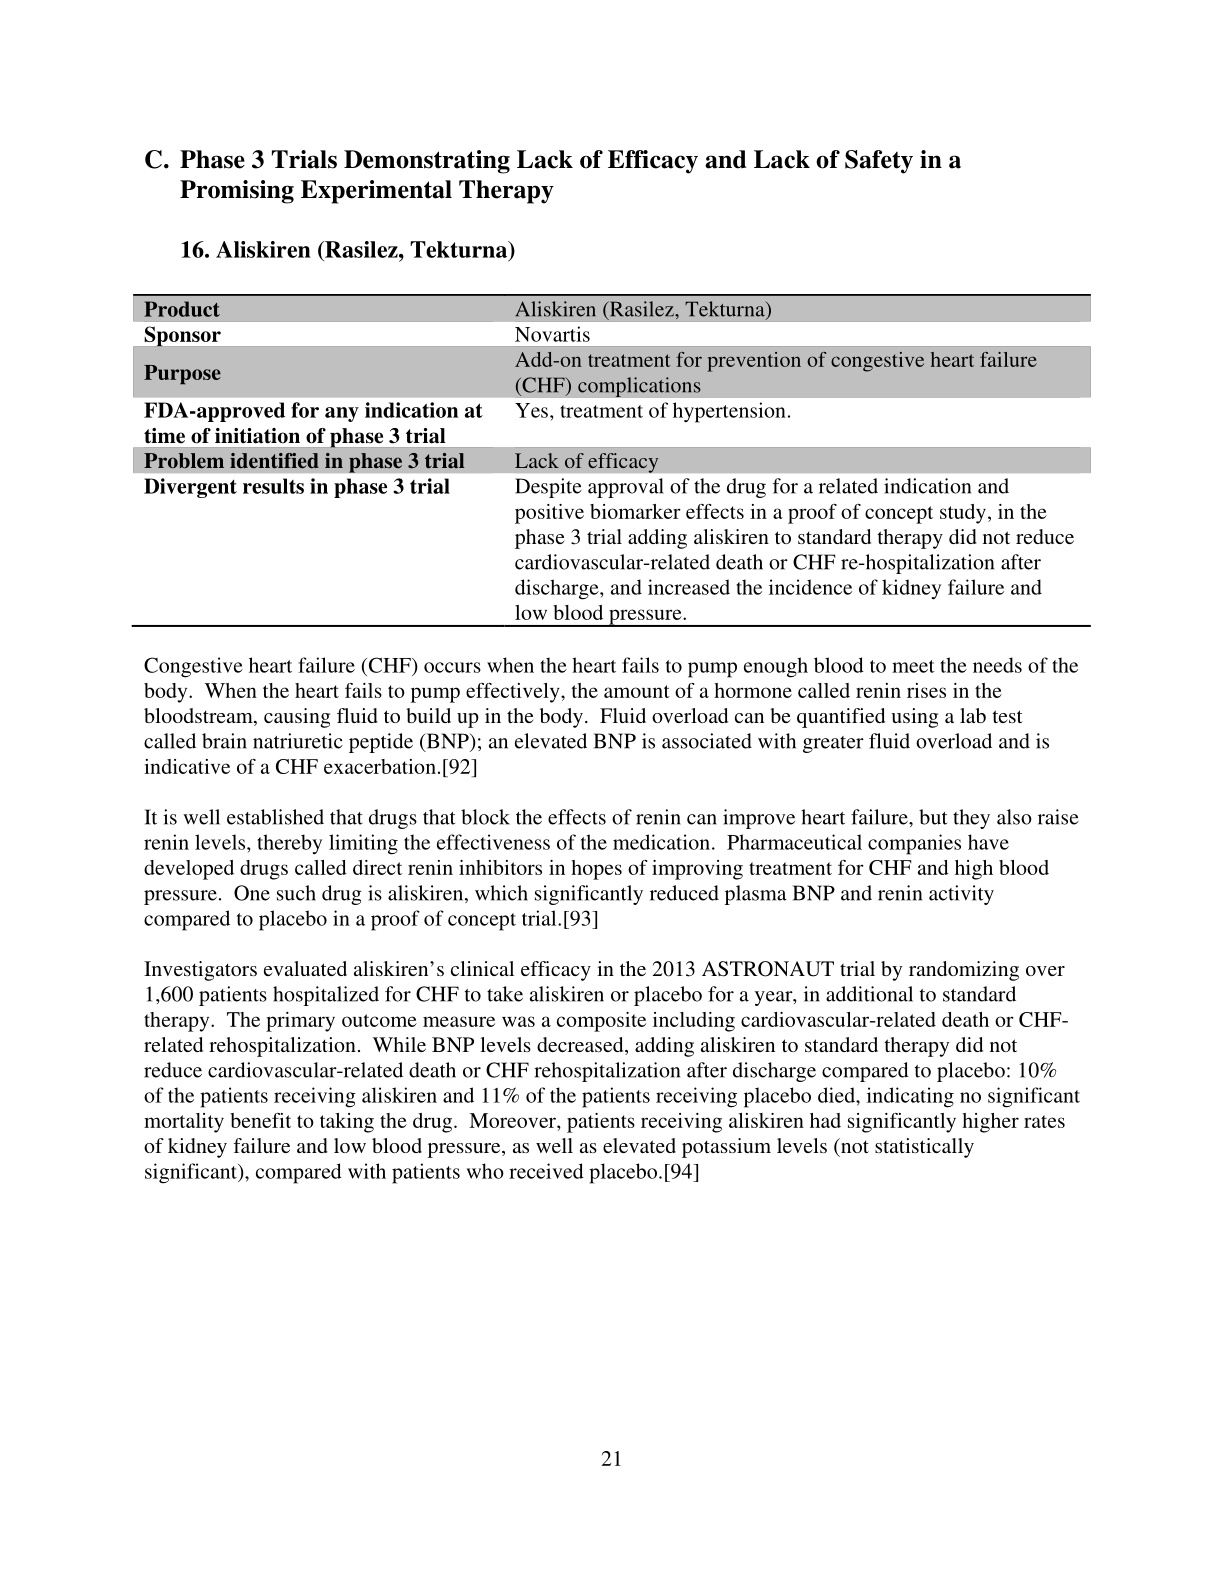partial_lined: (132, 292, 1092, 627)
